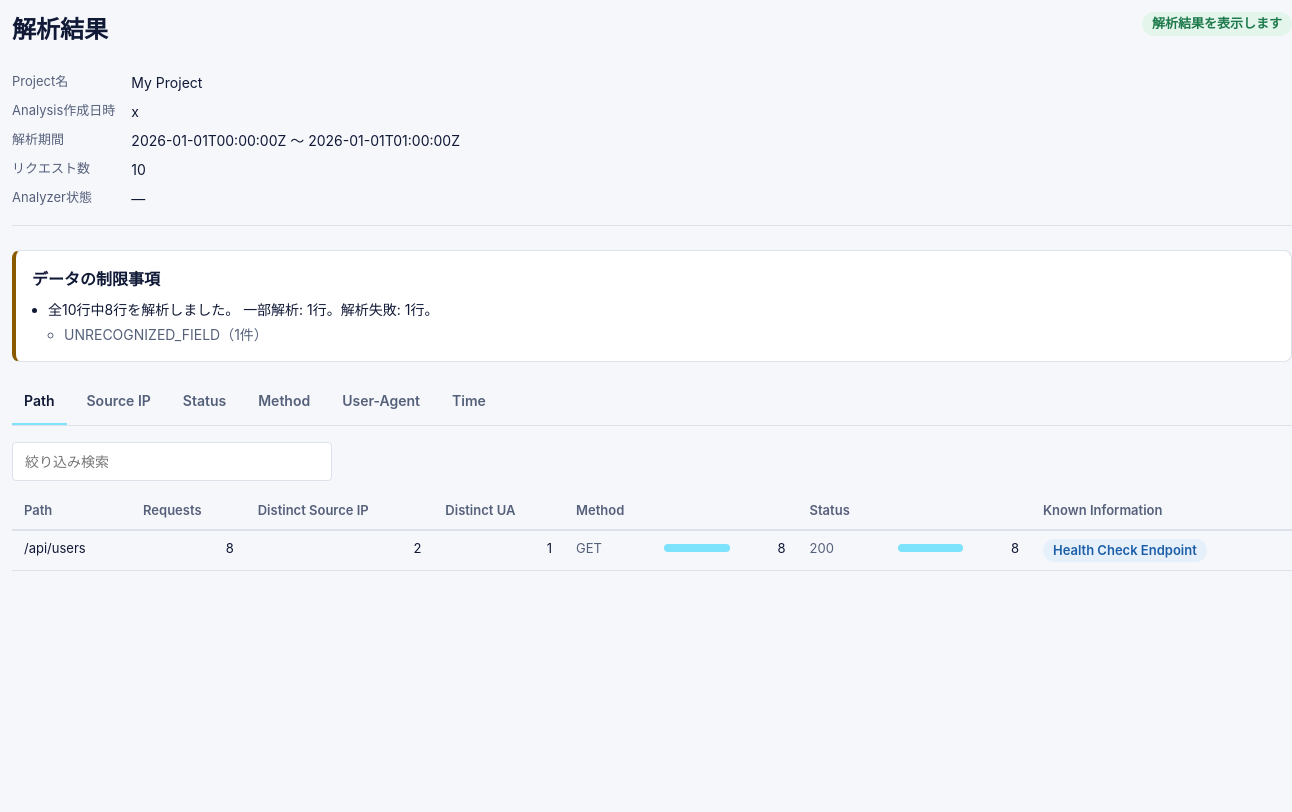
AnalysisResultPage › renders the Path tab by default and switches to the Source IP tab on tab click
Click the tab "Source IP" at point(119, 402), box left=74, top=378, right=163, bottom=425
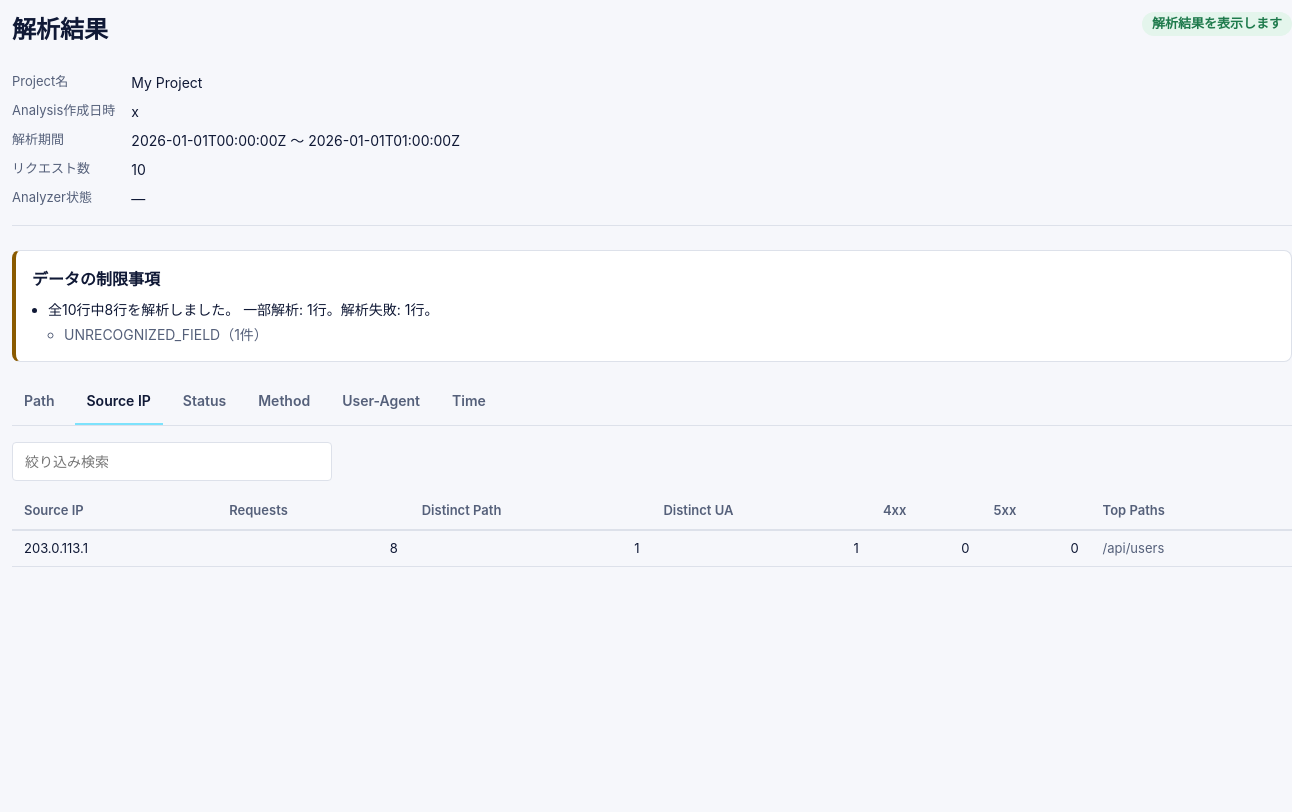
Check: the text "203.0.113.1" is shown, box left=12, top=530, right=217, bottom=566
